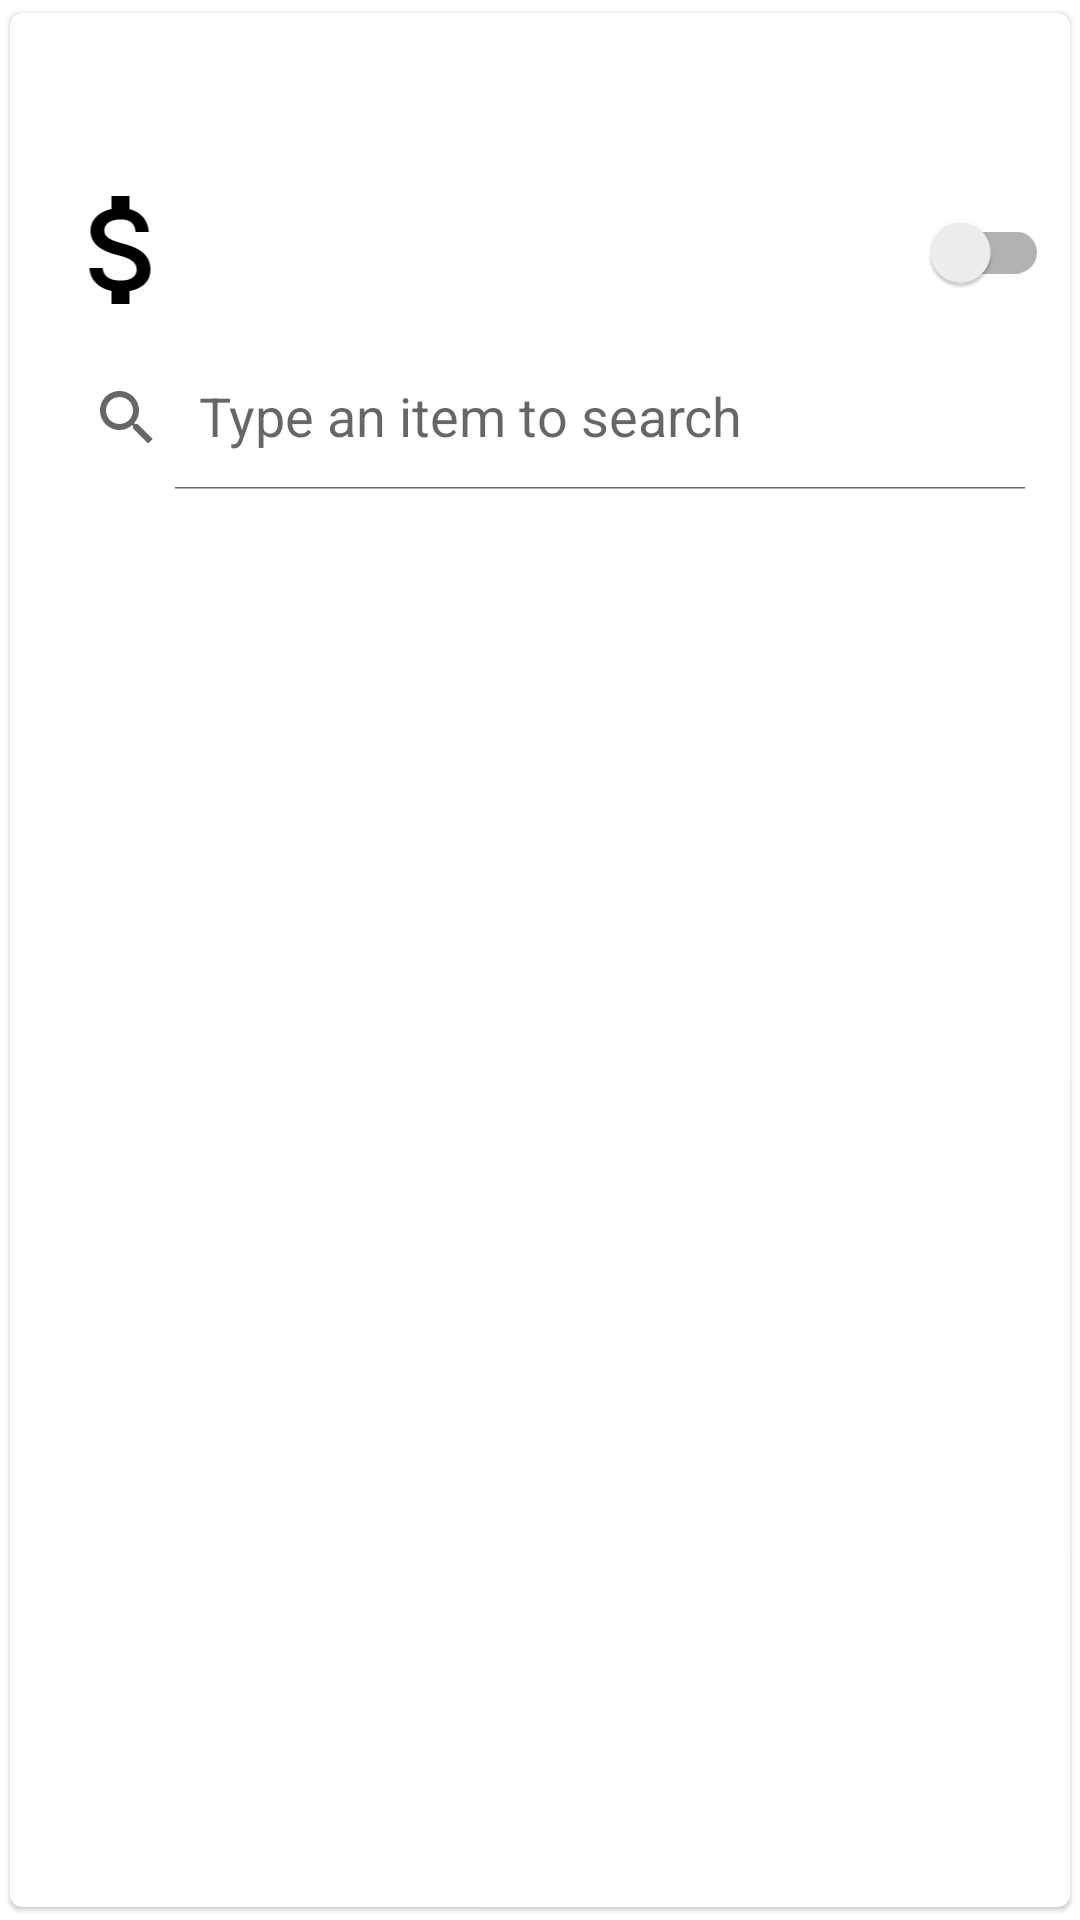

Icons on this 1080 x 1920 Android screen, each with its box as (x1, y1, x2, y2):
money: (89, 196, 151, 304)
